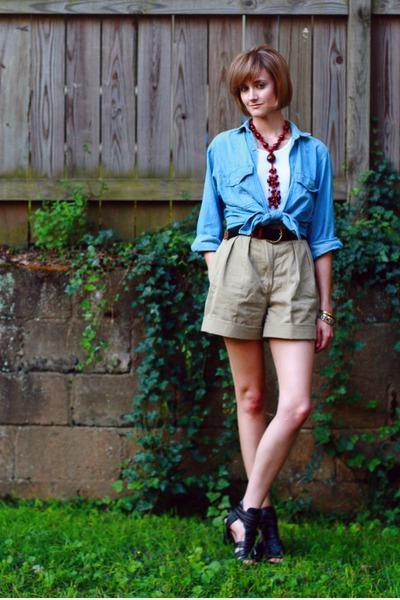Shorts: (199, 229, 321, 346)
long sleeve shirt: (192, 118, 342, 260)
vest: (248, 138, 300, 215)
